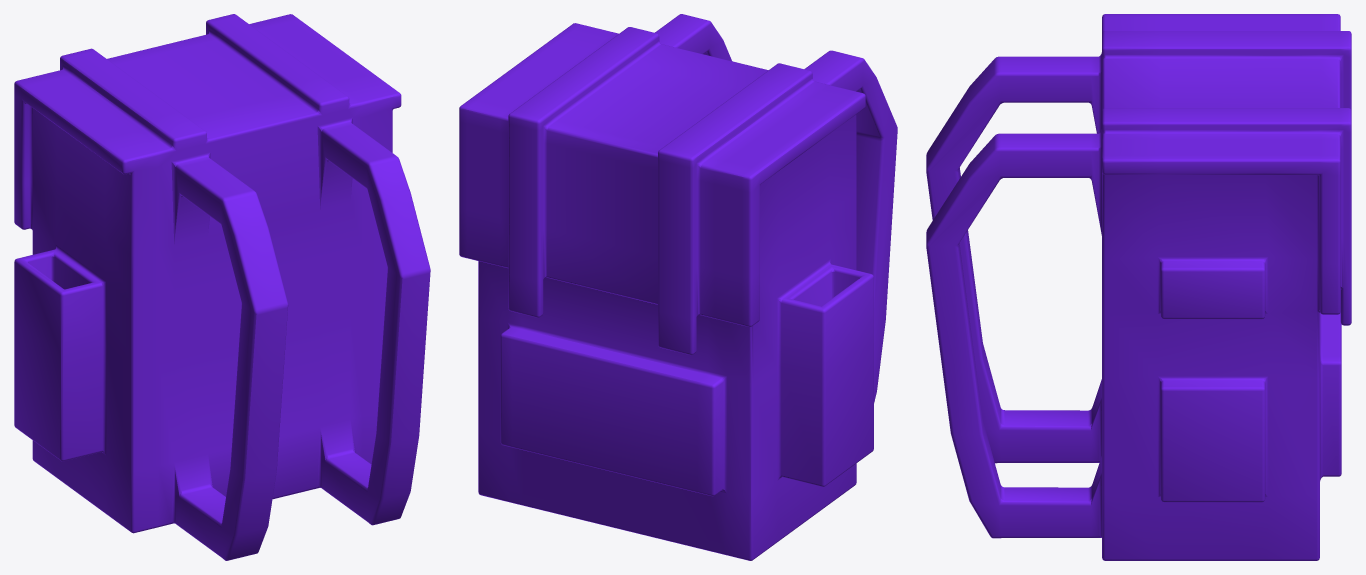
Rendered from backpack.glb.
3 renders of one model, left to right at view 1: azimuth 30°, elevation 25°; view 2: azimuth 150°, elevation 25°; view 3: azimuth 270°, elevation 25°, orthographic. The views are drawn at different scales.
Visible parts, largest first — view 1: Cube; view 2: Cube; view 3: Cube.
Part boxes in pixels (bbox=[...]): Cube: bbox=[14, 14, 430, 560]; Cube: bbox=[459, 14, 897, 560]; Cube: bbox=[926, 14, 1351, 560].
Size of the model in its own units: 3.7 by 4.22 by 3.9.
